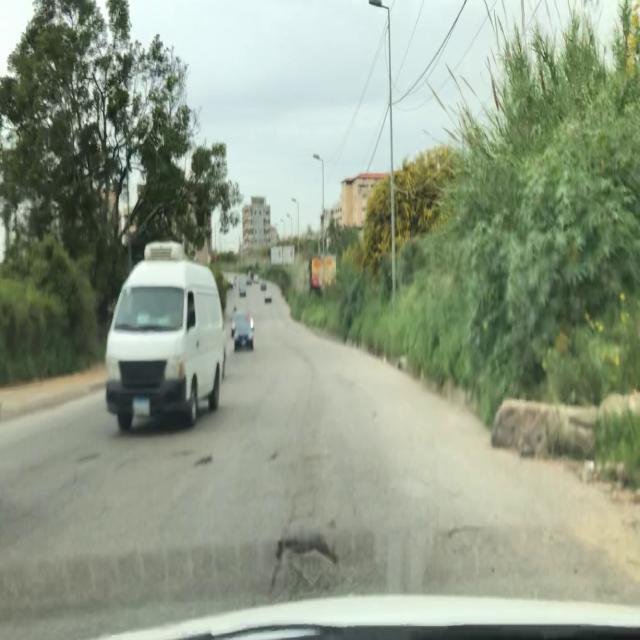Pothole: (270, 535, 338, 572), (194, 455, 213, 468)
